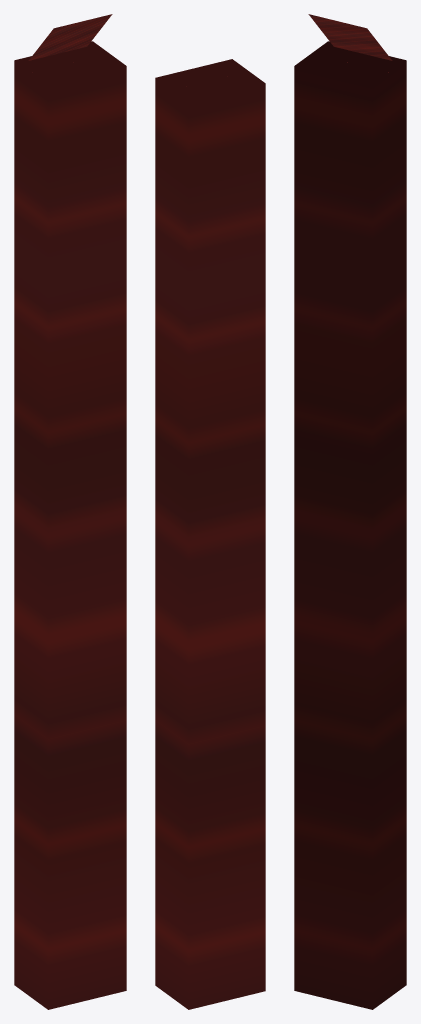
Rendered from trap_t5_laser_grid.glb.
3 views of the same model, side by side, from view 1: azimuth 30°, elevation 25°; view 2: azimuth 210°, elevation 25°; view 3: azimuth 330°, elevation 25° (orthographic).
Parts seen in each view (by area): view 1: trap_t5_laser_grid; view 2: trap_t5_laser_grid; view 3: trap_t5_laser_grid.
Boxes of the visible parts, box(x1,y1,x2,y2) form: trap_t5_laser_grid: box(14, 14, 126, 1009); trap_t5_laser_grid: box(155, 59, 265, 1009); trap_t5_laser_grid: box(294, 14, 406, 1009).
Bounding box in the file's own units: 0.16 × 1.9 × 0.12.
Materials: 1 (1 with a texture image).
